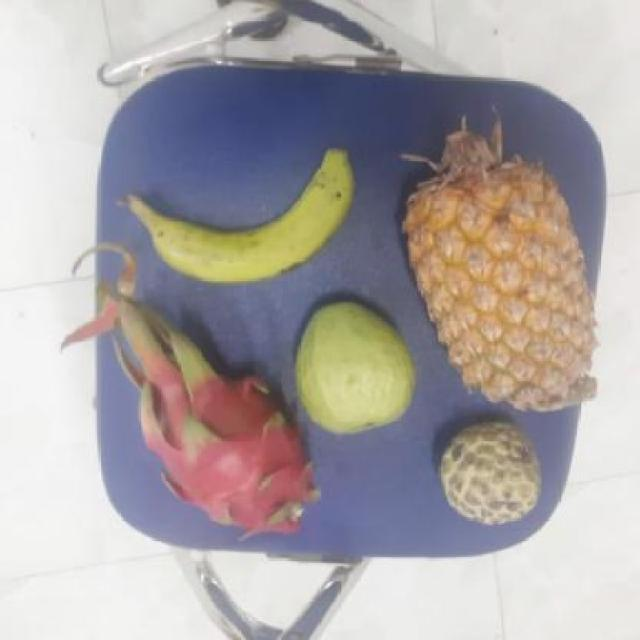banana: (122, 159, 349, 283)
dragon fruit: (142, 363, 312, 534)
guava: (287, 300, 415, 432)
pineapple: (401, 150, 590, 408)
sugar apple: (434, 424, 541, 524)
